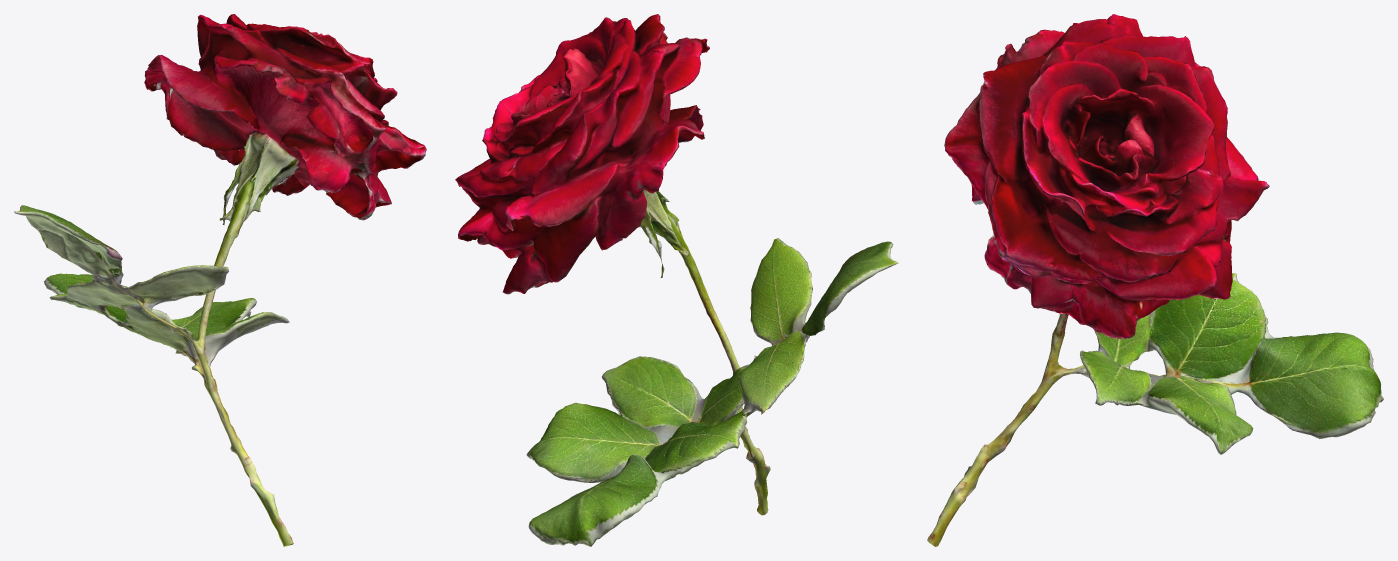
File: 3Ddata.obj
3 renders of one model, left to right at view 1: azimuth 30°, elevation 25°; view 2: azimuth 150°, elevation 25°; view 3: azimuth 270°, elevation 25°, orthographic. The views are drawn at different scales.
Parts seen in each view (by area): view 1: 4a8ff7f6-dab1-4c48-a2a1-04cf0854b0bb_0; view 2: 4a8ff7f6-dab1-4c48-a2a1-04cf0854b0bb_0; view 3: 4a8ff7f6-dab1-4c48-a2a1-04cf0854b0bb_0.
Part boxes in pixels (box(x1,y1,x2,y2)): 4a8ff7f6-dab1-4c48-a2a1-04cf0854b0bb_0: box(14, 14, 426, 546); 4a8ff7f6-dab1-4c48-a2a1-04cf0854b0bb_0: box(455, 14, 898, 546); 4a8ff7f6-dab1-4c48-a2a1-04cf0854b0bb_0: box(927, 14, 1383, 546).
Bounding box in the file's own units: 0.1809 × 0.2168 × 0.1661.
